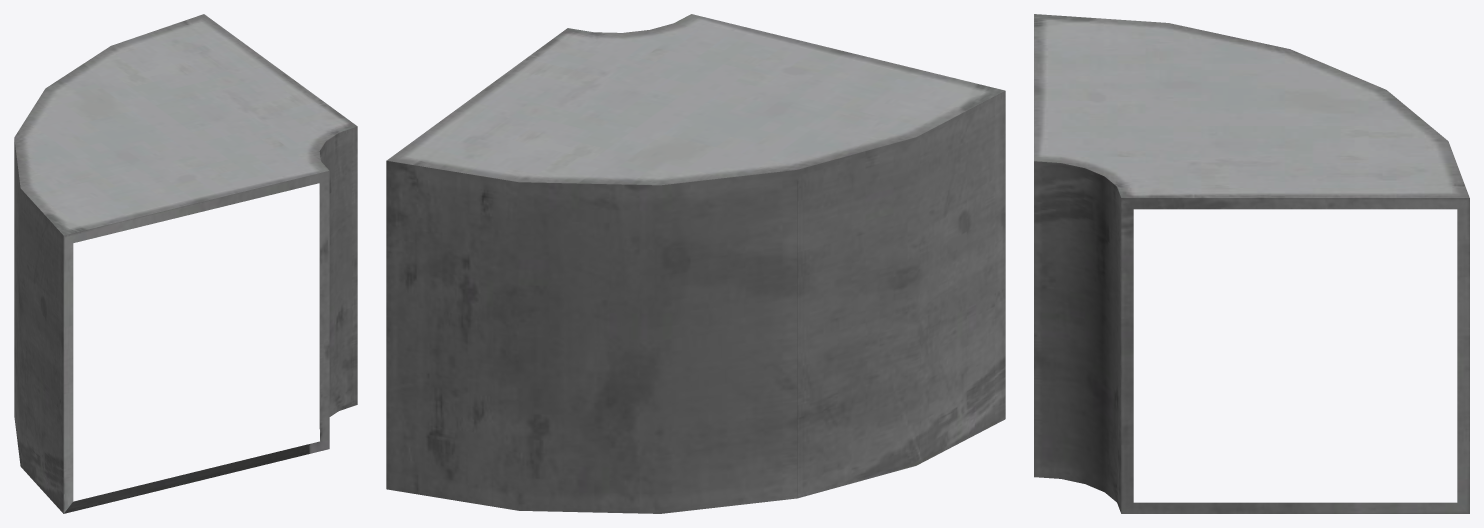
File: SM_Vent_Duct_Corner_01.glb
3 views of the same model, side by side, from view 1: azimuth 30°, elevation 25°; view 2: azimuth 150°, elevation 25°; view 3: azimuth 270°, elevation 25° (orthographic). The views are drawn at different scales.
Visible parts, largest first — view 1: SM_Vent_Duct_Corner_01; view 2: SM_Vent_Duct_Corner_01; view 3: SM_Vent_Duct_Corner_01.
Boxes of the visible parts, x1,y1,x2,y2 form: SM_Vent_Duct_Corner_01: (14, 14, 357, 513); SM_Vent_Duct_Corner_01: (386, 14, 1005, 513); SM_Vent_Duct_Corner_01: (1034, 14, 1469, 513).
Size of the model in its own units: 0.5 by 0.4 by 0.5.
1 material, 1 textured.
